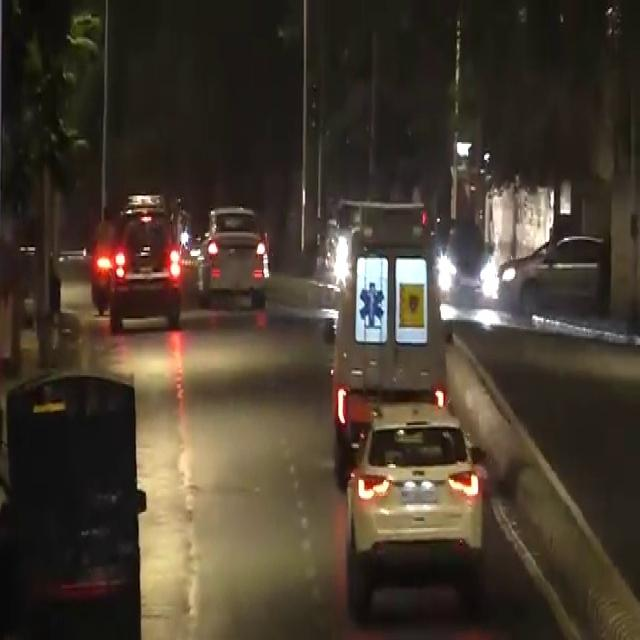ambulance: (324, 206, 466, 436)
